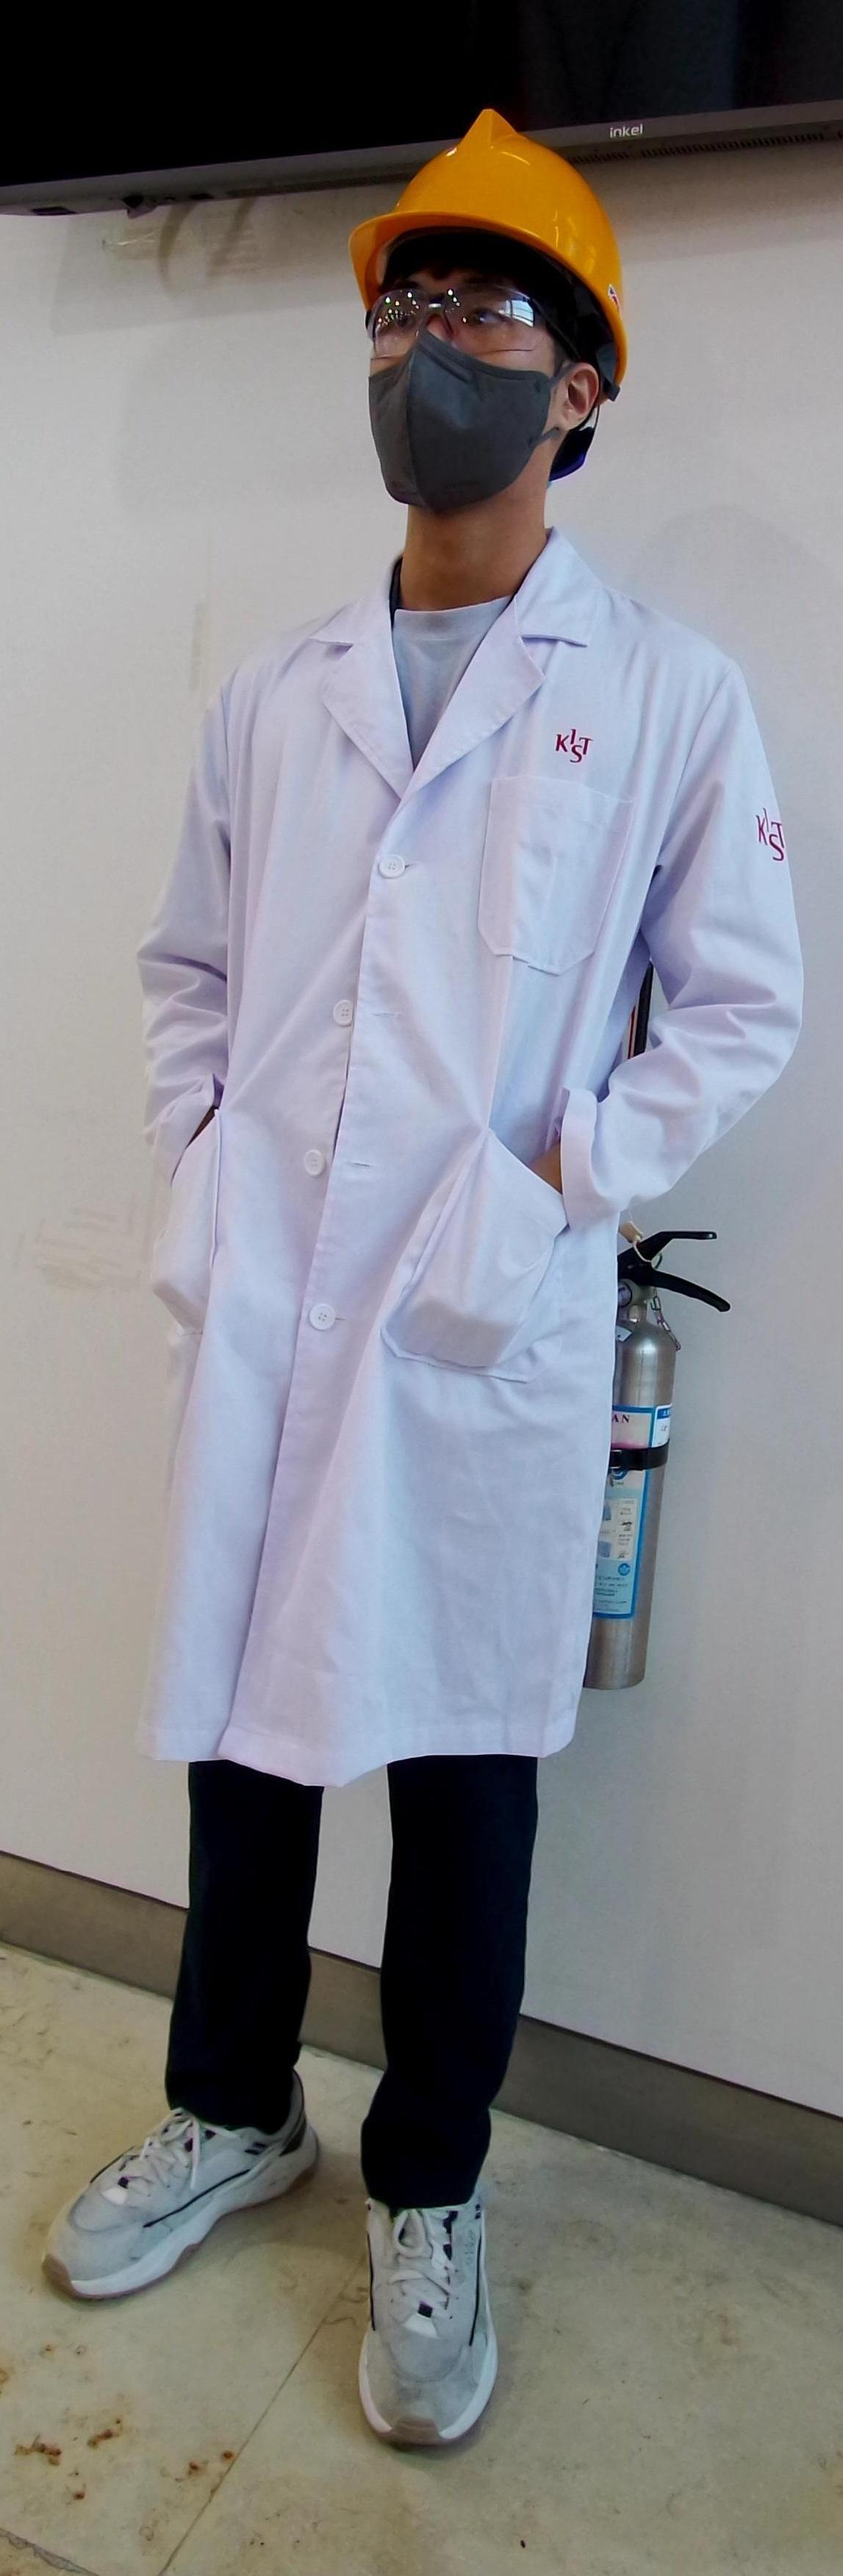lab_coat: (125, 601, 779, 1741)
